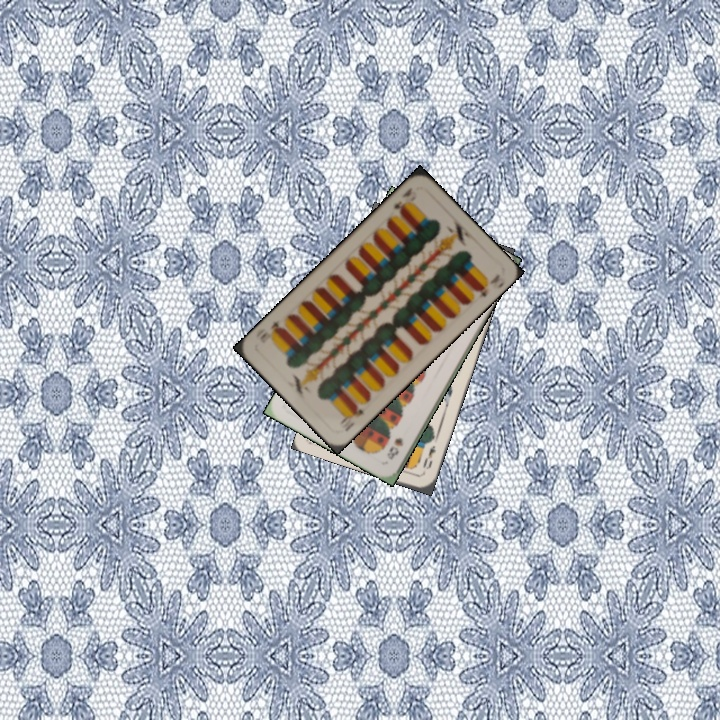E10: (336, 402, 366, 434), (389, 183, 415, 216)
EO: (419, 441, 438, 472)
S8: (383, 433, 406, 462)
